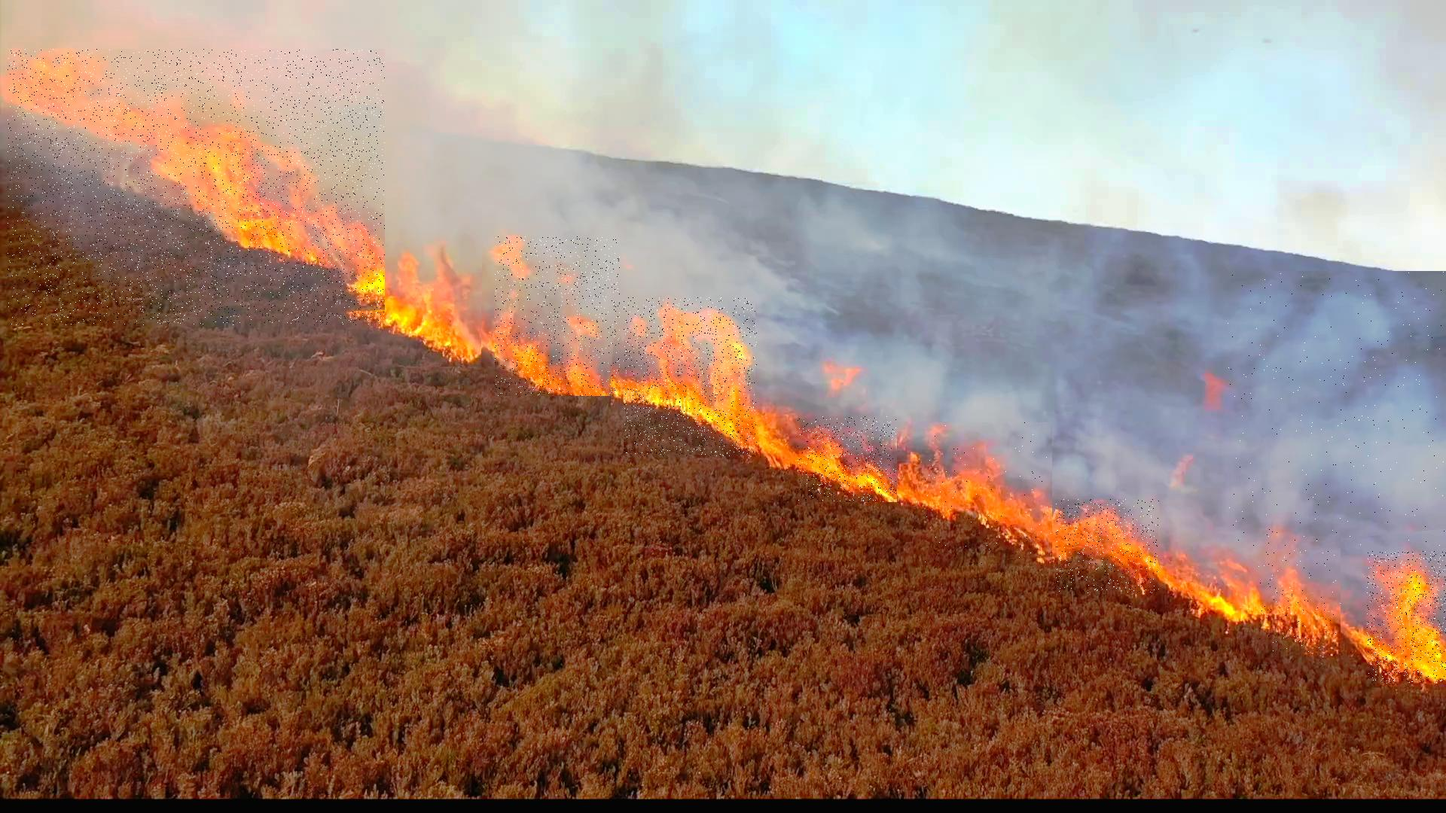fire: (8, 50, 385, 326), (624, 298, 757, 457), (495, 236, 620, 396), (924, 423, 1052, 566), (1259, 525, 1341, 657), (393, 246, 482, 367), (1367, 551, 1446, 684), (1055, 500, 1159, 594), (798, 416, 897, 502)
smoke: (1226, 271, 1446, 550)
